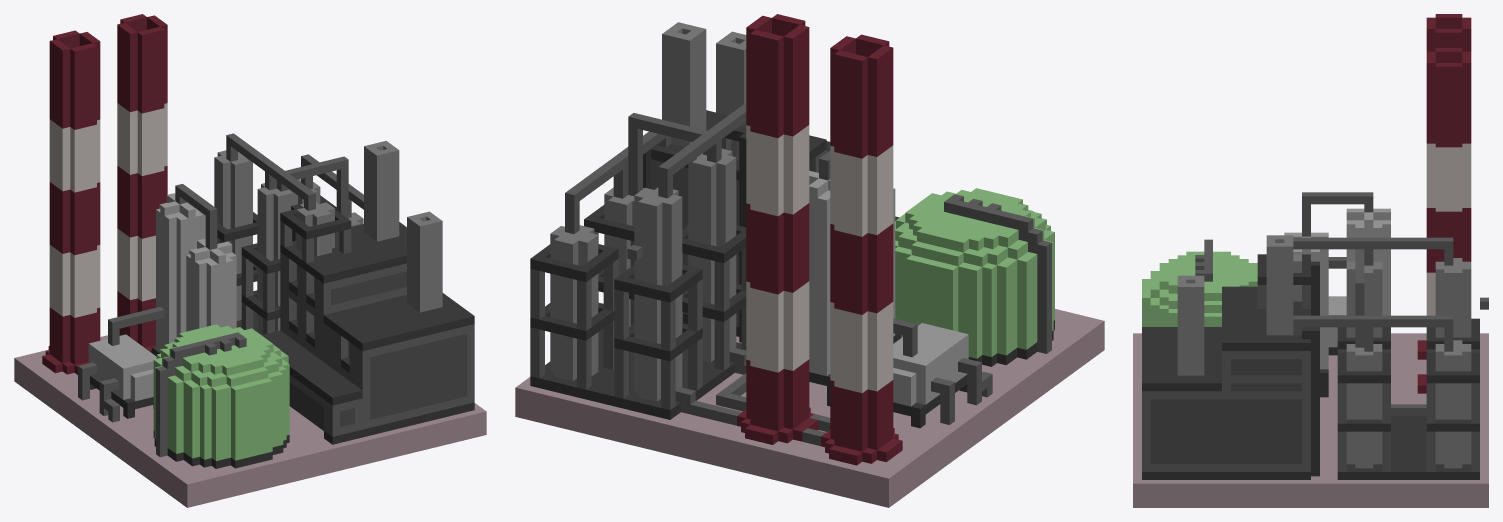
The model's file is Factory.fbx.
3 renders of one model, left to right at view 1: azimuth 30°, elevation 25°; view 2: azimuth 150°, elevation 25°; view 3: azimuth 270°, elevation 25°, orthographic. The views are drawn at different scales.
Parts seen in each view (by area): view 1: Factory; view 2: Factory; view 3: Factory.
Part boxes in pixels (<box>): Factory: <box>14,14,486,507</box>; Factory: <box>515,14,1104,507</box>; Factory: <box>1133,14,1488,507</box>.
Size of the model in its own units: 4000 by 4400 by 4000.
